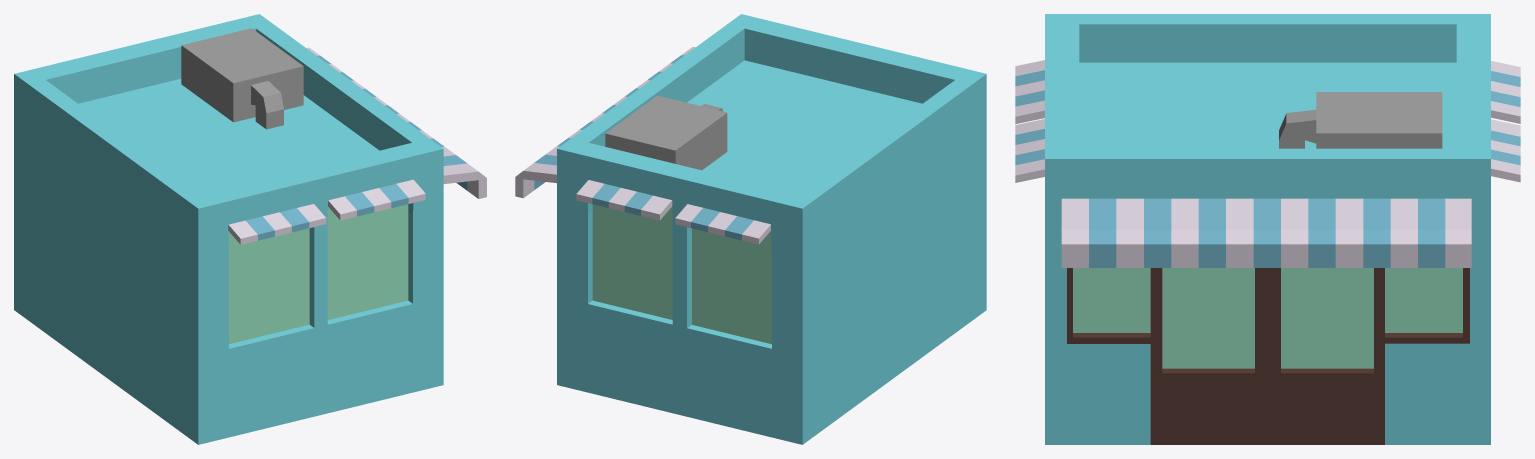
File: Shop1_5.fbx
3 views of the same model, side by side, from view 1: azimuth 30°, elevation 25°; view 2: azimuth 150°, elevation 25°; view 3: azimuth 270°, elevation 25° (orthographic). The views are drawn at different scales.
Visible parts, largest first — view 1: Cube; view 2: Cube; view 3: Cube.
Part boxes in pixels (x1,y1,x2,y2): Cube: (14,14,486,444); Cube: (515,14,986,444); Cube: (1015,14,1520,444).
Size of the model in its own units: 181 by 142 by 221.
